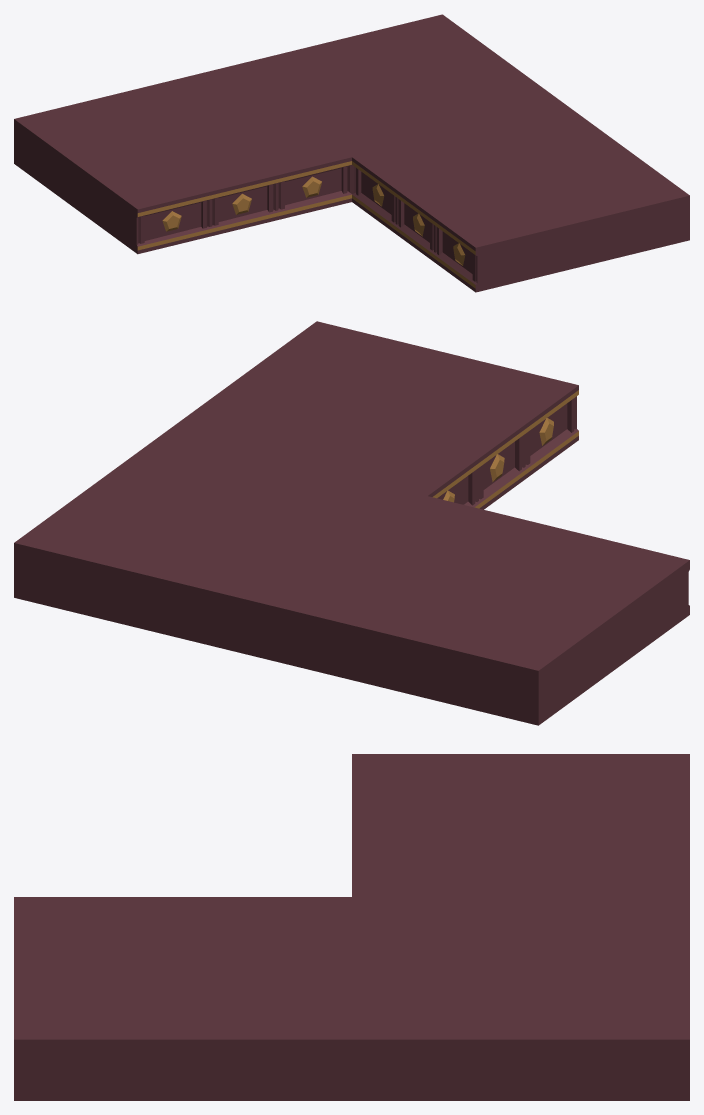
Rendered from SM_Architrave_Corner_L_Empire.fbx.
3 renders of one model, top to bottom at view 1: azimuth 30°, elevation 25°; view 2: azimuth 150°, elevation 25°; view 3: azimuth 270°, elevation 25°, orthographic. The views are drawn at different scales.
Parts seen in each view (by area): view 1: SM_Architrave_Corner_L_Empire; view 2: SM_Architrave_Corner_L_Empire; view 3: SM_Architrave_Corner_L_Empire.
Boxes of the visible parts, box(x1,y1,x2,y2) form: SM_Architrave_Corner_L_Empire: box(14, 14, 689, 292); SM_Architrave_Corner_L_Empire: box(14, 321, 689, 725); SM_Architrave_Corner_L_Empire: box(14, 754, 689, 1100).
Bounding box in the file's own units: 6 × 0.5997 × 6.
